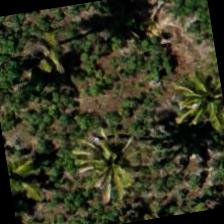Kelapa_Sawit: (60, 114, 162, 216), (0, 3, 96, 102), (166, 49, 223, 148)
